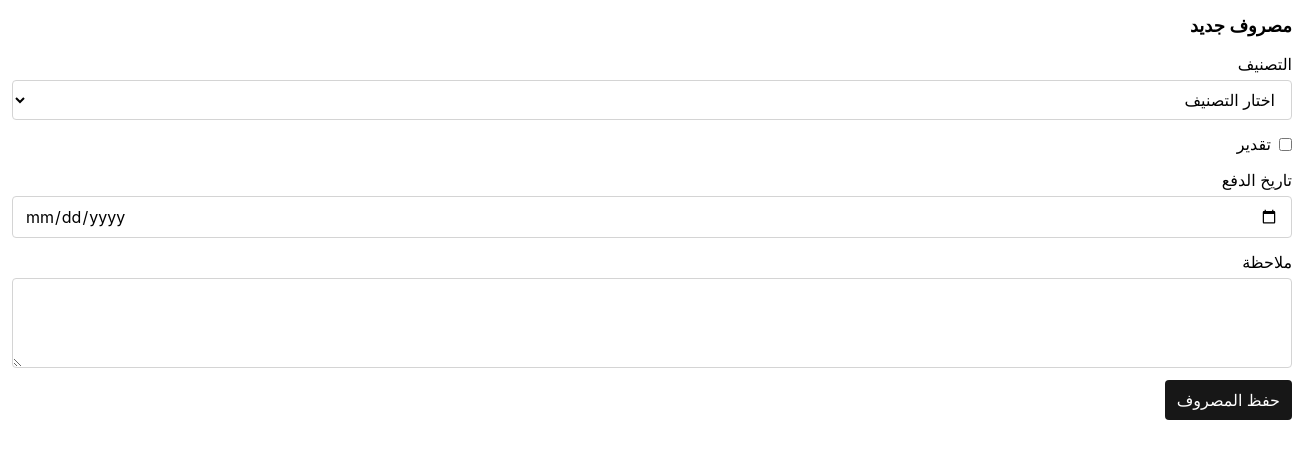
Scenario: ExpenseForm › blocks a save that has no category
Click the button "حفظ المصروف": (1228, 400) [1165,380,1292,420]
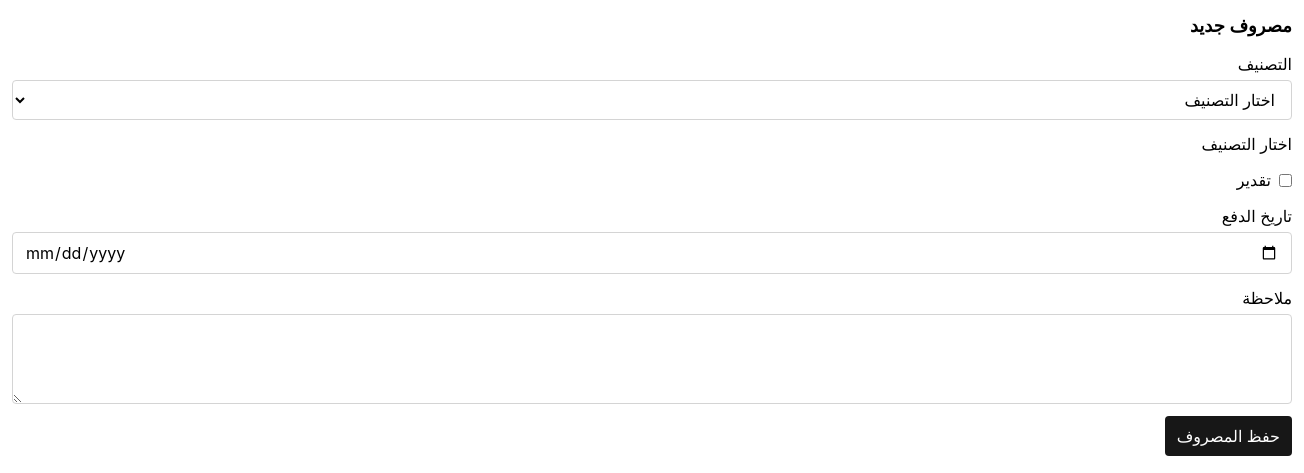
Expected: the message reads "اختار التصنيف", [1202,134,1292,154]
